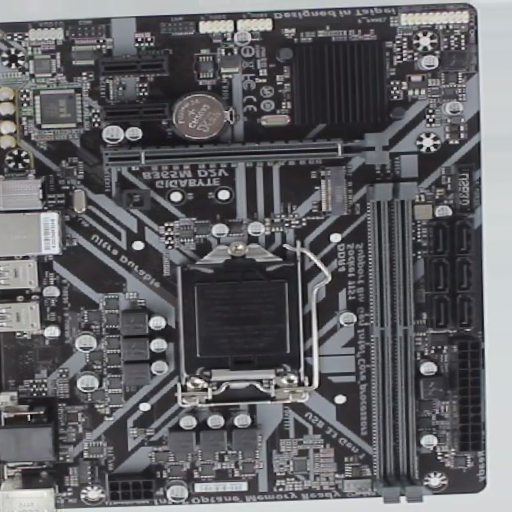CPU: (173, 223, 319, 406)
GPU: (99, 140, 342, 166)
MOTHERBOARD: (1, 4, 486, 505)
RAM: (366, 183, 421, 503)
SSD: (320, 168, 348, 214)
